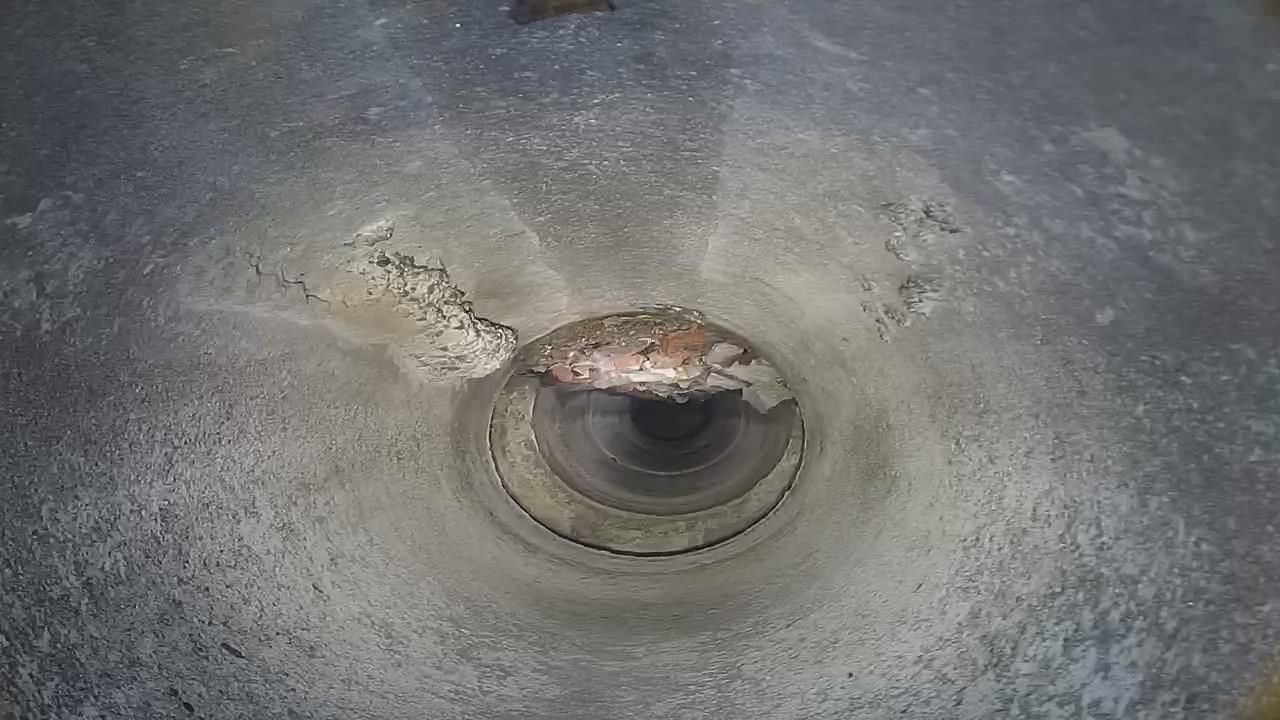CJ: (521, 309, 793, 408)
CKTJ: (477, 362, 816, 569)
JG: (197, 220, 518, 385)
